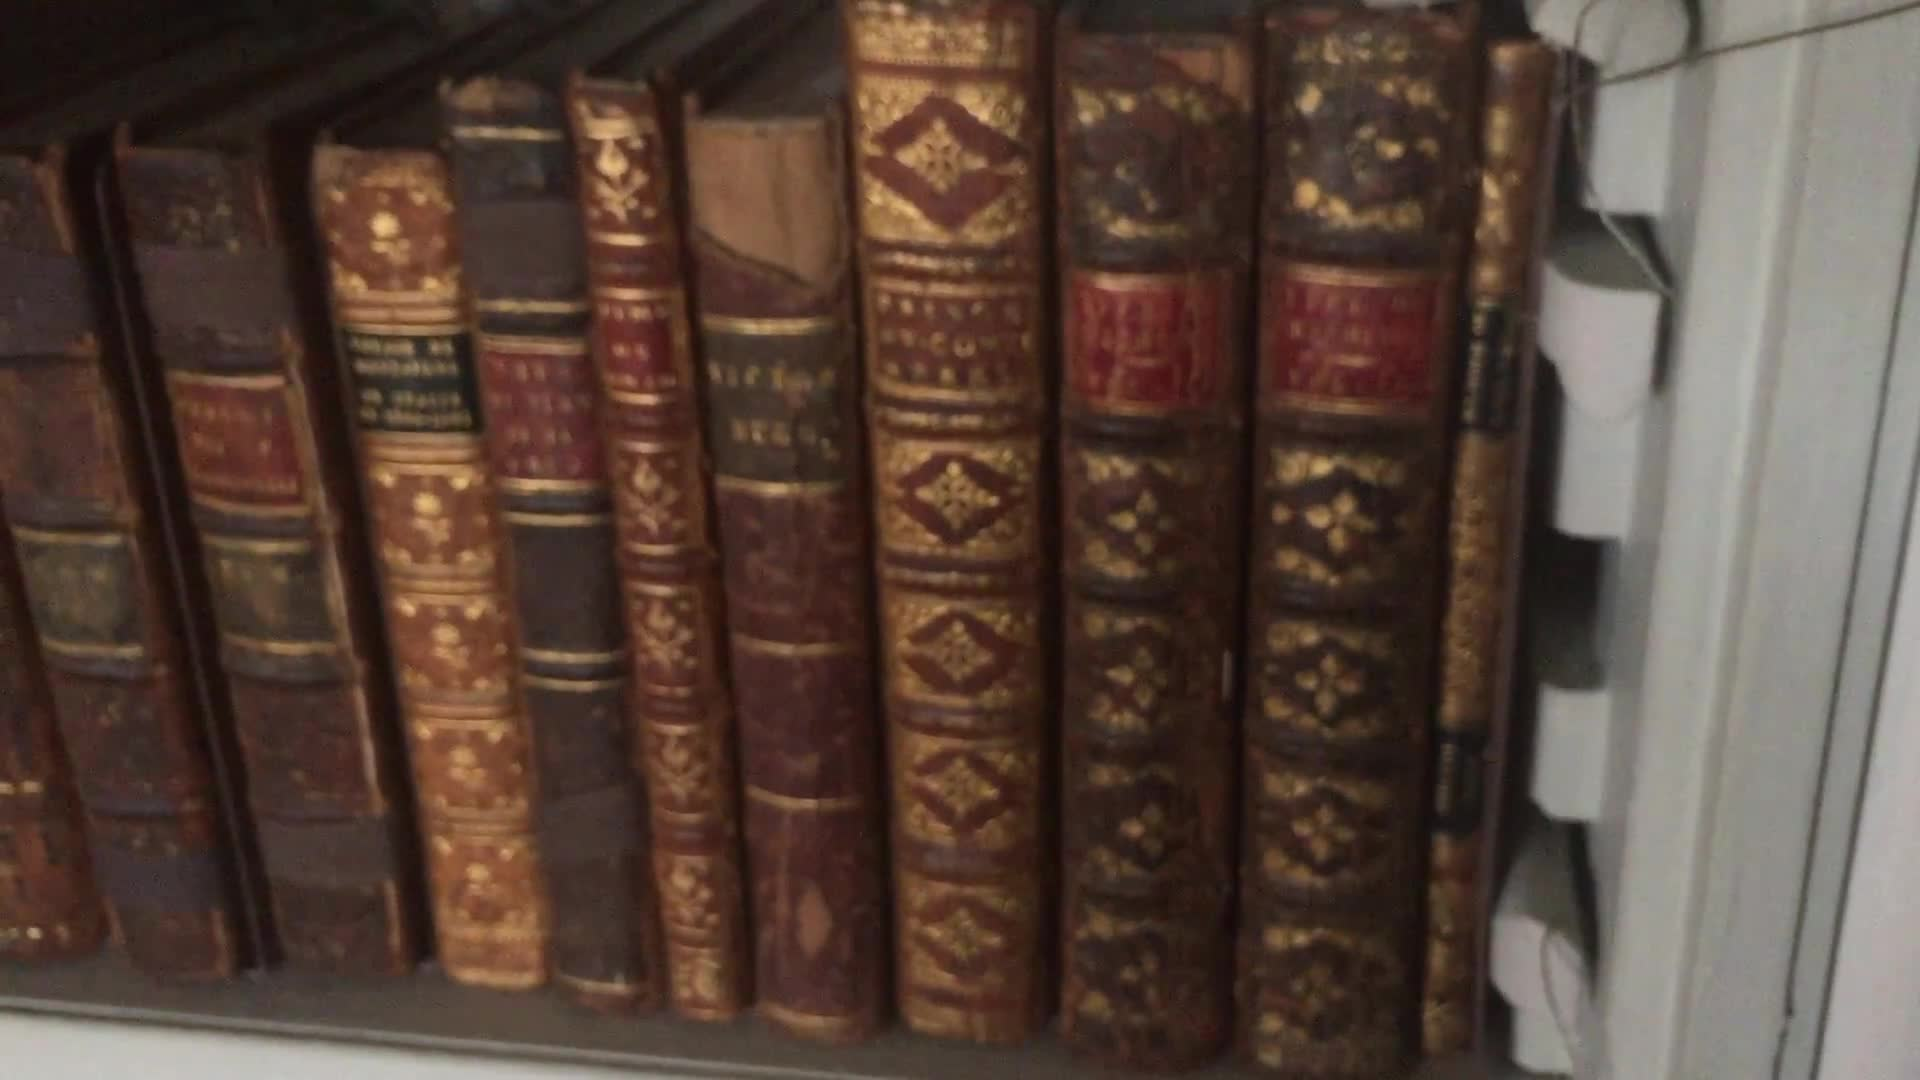Aa6-39_40: (4, 117, 407, 996)
Aa6-41: (297, 124, 555, 1014)
Aa6-42: (426, 66, 653, 1039)
Aa6-43: (543, 61, 781, 1019)
Aa6-44: (676, 102, 876, 1039)
Aa6-45: (847, 7, 1058, 1039)
Aa6-46-47: (1033, 15, 1433, 1080)
Aa6-48: (1437, 40, 1545, 1080)
